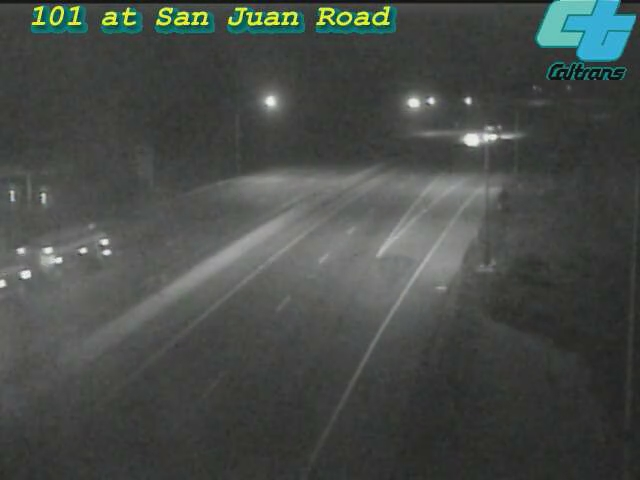vehicle: (1, 243, 62, 323), (470, 107, 520, 157), (449, 114, 499, 164)
